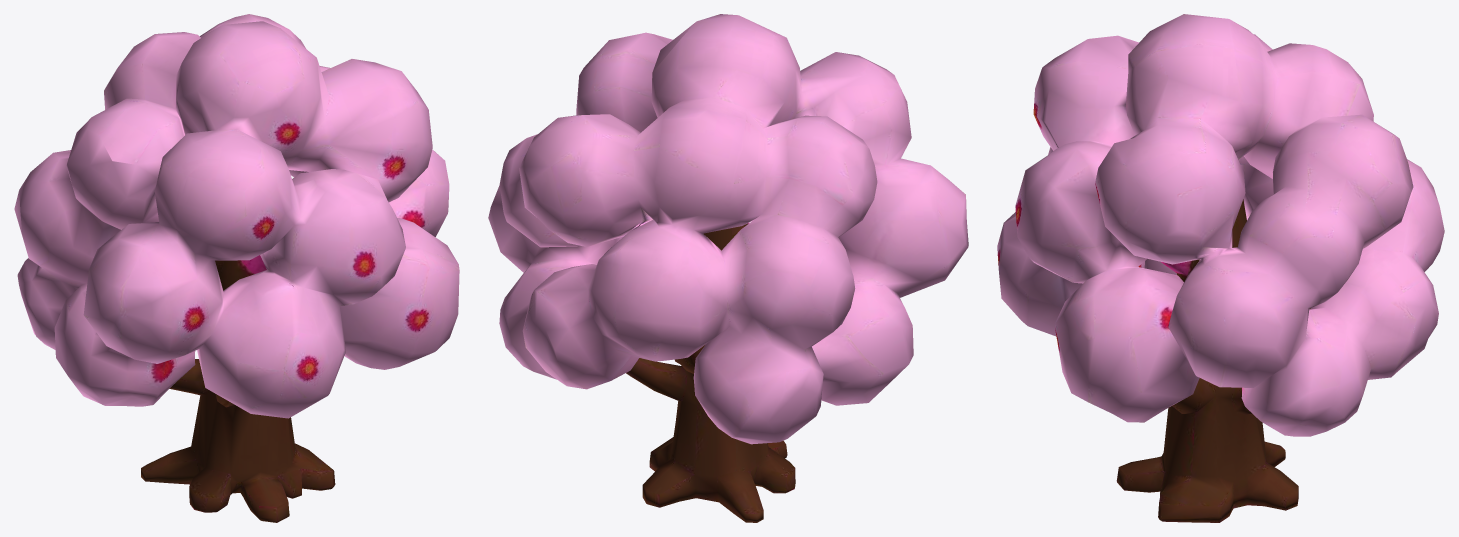
The model's file is sakura.glb.
The picture shows the model from 3 angles, left to right: view 1: azimuth 30°, elevation 25°; view 2: azimuth 150°, elevation 25°; view 3: azimuth 270°, elevation 25°; orthographic projection. The views are drawn at different scales.
Visible parts, largest first — view 1: prop-sakura.glb; view 2: prop-sakura.glb; view 3: prop-sakura.glb.
Boxes of the visible parts, left/top/right/bottom form: prop-sakura.glb: left=14, top=14, right=459, bottom=522; prop-sakura.glb: left=488, top=14, right=968, bottom=522; prop-sakura.glb: left=997, top=14, right=1444, bottom=522.
Bounding box in the file's own units: 0.9165 × 0.9995 × 0.8668.
1 material, 1 textured.
